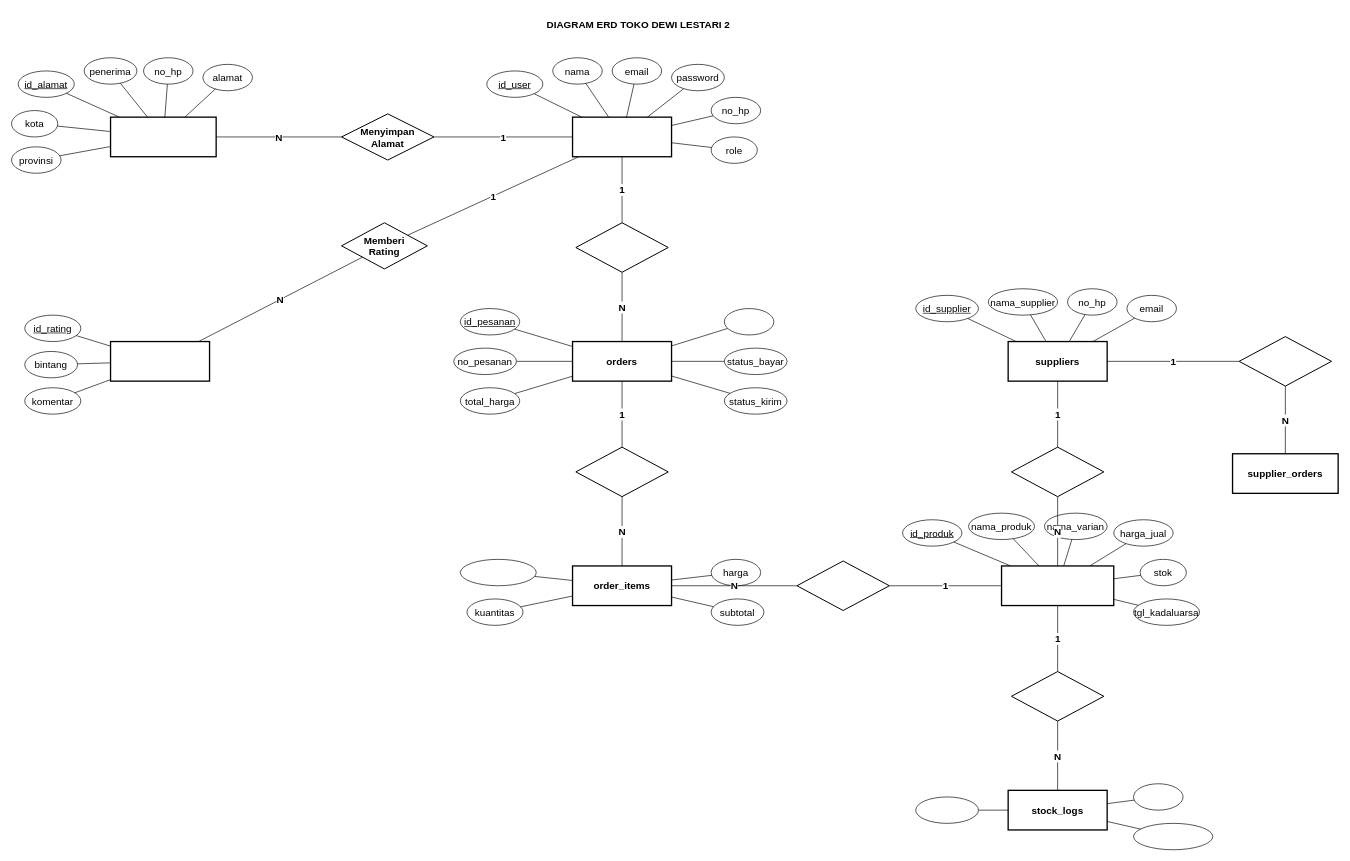
The diagram is 1350 pixels wide and 861 high, and some of its shapes have lost their labels. Here are the shapes that lost their labels. From the top down, the box of each, then its label:
(110, 116, 216, 157): user_addresses
(572, 116, 672, 157): users
(575, 222, 668, 272): Melakukan Pemesanan
(724, 308, 774, 335): ongkir
(110, 341, 210, 381): ratings
(1238, 336, 1332, 386): Pemesanan PO
(575, 446, 668, 497): Memilih Detail
(1011, 446, 1104, 497): Menyuplai Stok
(460, 559, 536, 586): id_detail_order
(796, 560, 890, 611): Memuat Produk
(1001, 565, 1114, 606): supplier_stocks
(1011, 671, 1104, 721): Mencatat Log
(915, 796, 978, 823): id_log_stok
(1133, 783, 1183, 810): tipe
(1133, 823, 1213, 850): jumlah_perubahan
